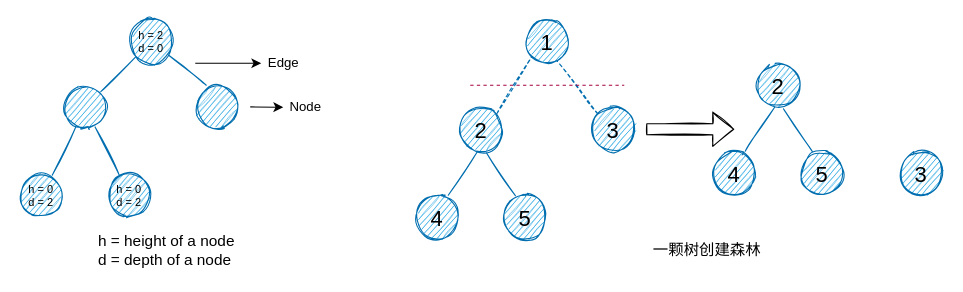
Some shapes in this 963 by 292 pixel diagram are drawn without their labels. The centre of each missing label's shape, as x and y in pixels:
h = 0 d = 1: (x=216, y=106)
h = 1 d = 1: (x=84, y=106)
